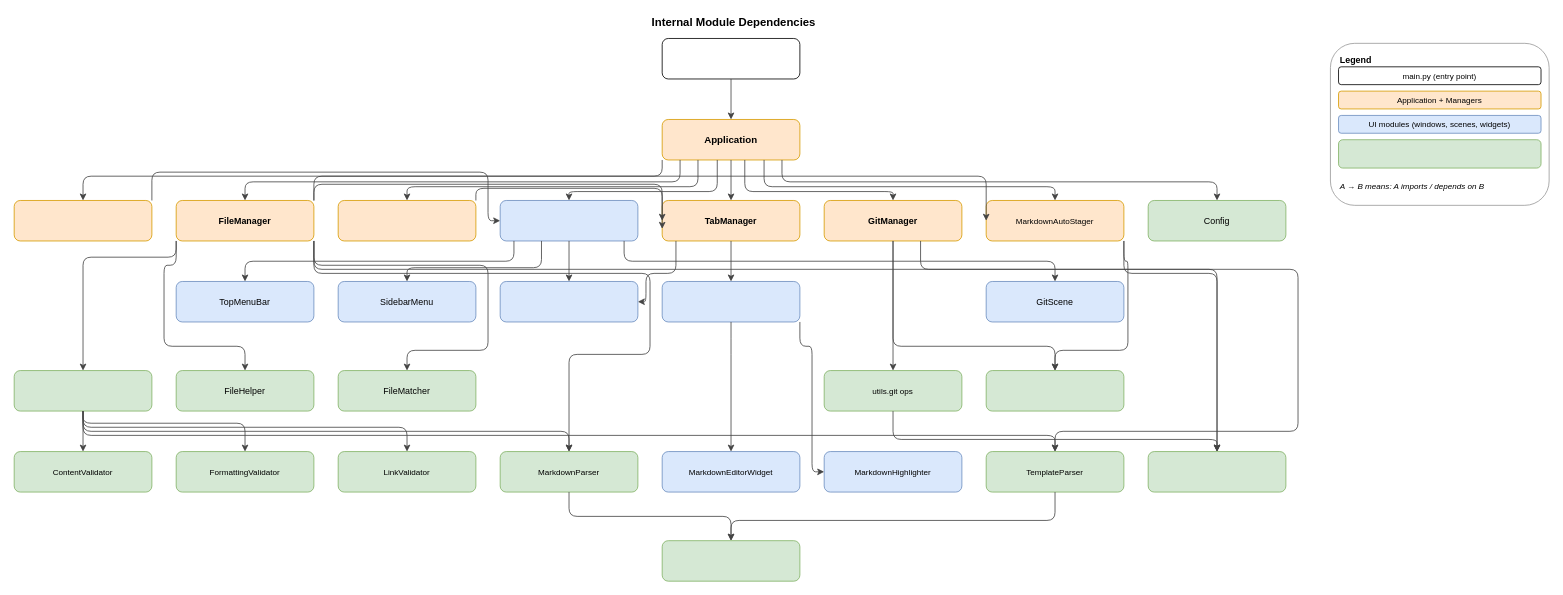
Some shapes in this 1563 by 595 pixel diagram are drawn without their labels. Here are the shapes that lost their labels. From the top down, the centre of each, then its label:
At (x=730, y=58): "main.py".
At (x=1439, y=153): "Data modules(analyzer, validators, parsers, helpers, Config)".
At (x=82, y=220): "ErrorManager".
At (x=406, y=220): "EditorManager".
At (x=568, y=220): "MainWindow".
At (x=568, y=301): "MarkdownScene".
At (x=730, y=301): "TabWidget".
At (x=82, y=390): "MarkdownAnalyzer".
At (x=1054, y=390): "utils.git.runner".
At (x=1216, y=471): "utils.git.stage".
At (x=730, y=560): "BaseParser".
